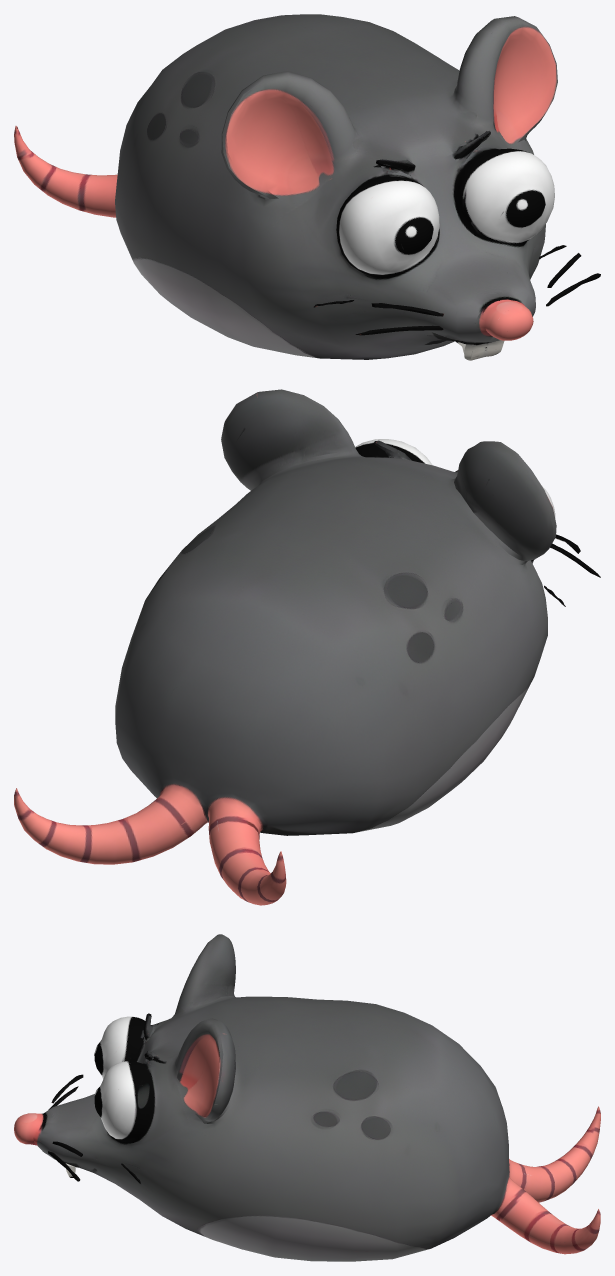
File: rat.glb
3 renders of one model, top to bottom at view 1: azimuth 30°, elevation 25°; view 2: azimuth 150°, elevation 25°; view 3: azimuth 270°, elevation 25°, orthographic. The views are drawn at different scales.
Visible parts, largest first — view 1: Mesh0; view 2: Mesh0; view 3: Mesh0.
Part boxes in pixels (x1,y1,x2,y2): Mesh0: (14,14,600,360); Mesh0: (14,389,600,905); Mesh0: (14,934,600,1261).
Size of the model in its own units: 0.9869 by 0.8924 by 1.91.
Materials: 1 (1 with a texture image).
